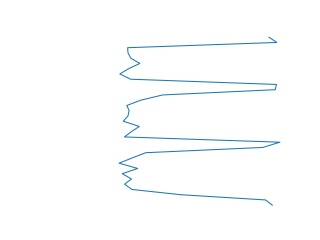majorRiverChannelBar: (115, 38, 282, 206)
